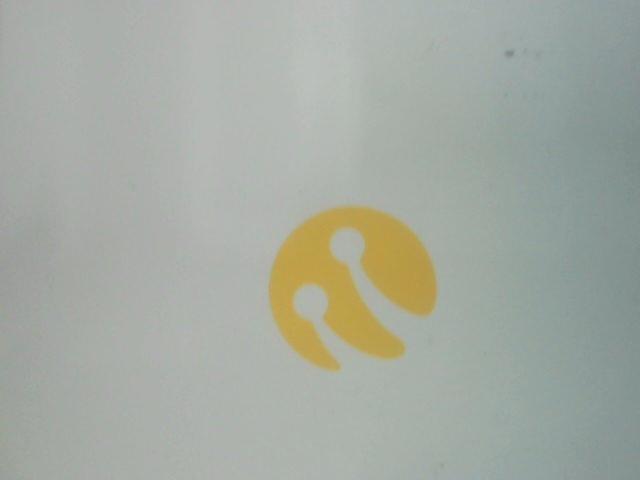AV_H3600Yellow: (258, 197, 452, 373)
